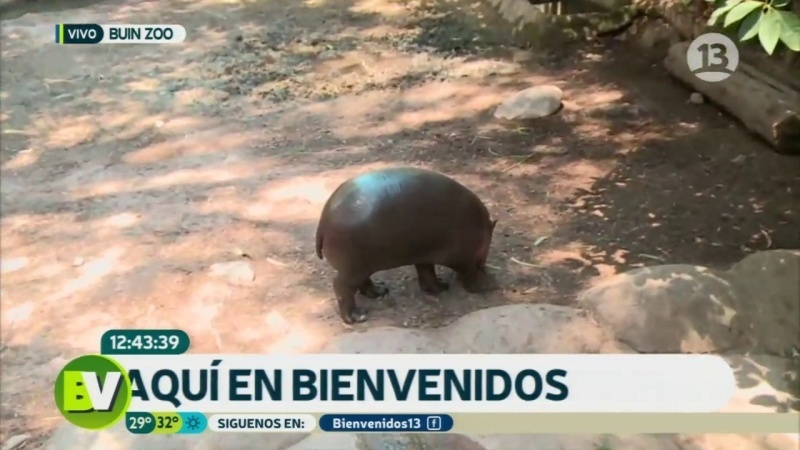hipopotamo: (292, 151, 515, 330)
